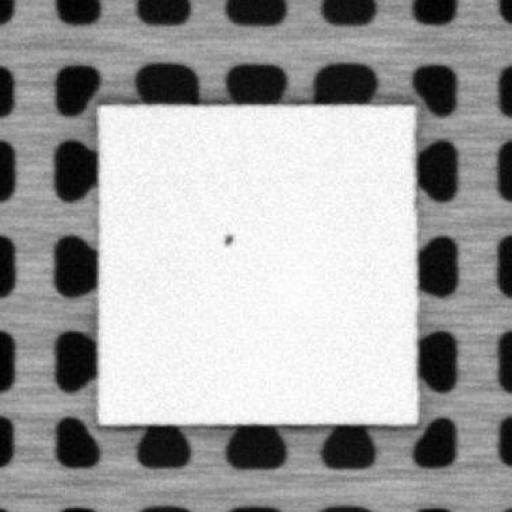DIE_INK: (218, 228, 234, 246)
